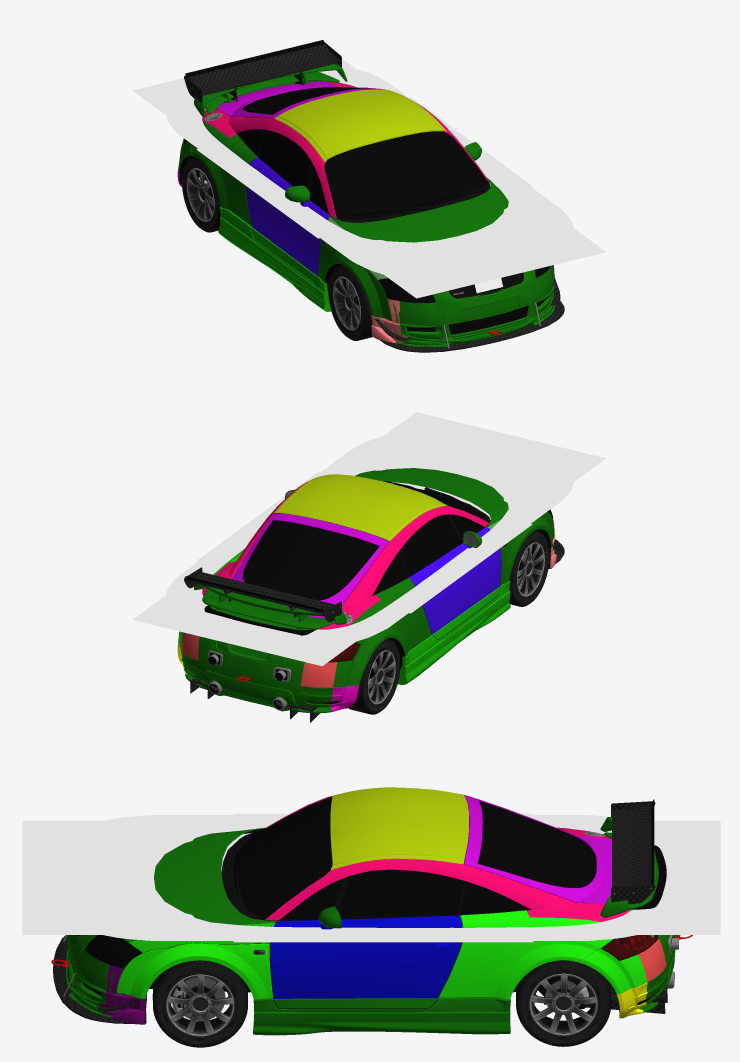
The model's file is audi_tt.fbx.
3 renders of one model, top to bottom at view 1: azimuth 30°, elevation 25°; view 2: azimuth 150°, elevation 25°; view 3: azimuth 270°, elevation 25°, orthographic. The views are drawn at different scales.
Parts seen in each view (by area): view 1: neon (×4), aud_tt_04_body_body_, aud_tt_04_glassF_window_, shadow, aud_tt_04_hooda_body_, aud_tt_04_bumperFb_body_, aud_tt_04_wingrace_carbon_fiber_, aud_tt_04_wheel_tire_ (×2), aud_tt_04_bumperFd_body_, aud_tt_04_skirtRc_body_, aud_tt_04_wheel_rim_ (×2), aud_tt_04_glassRM_window_ (+14 smaller); view 2: neon (×4), aud_tt_04_body_body_, shadow, aud_tt_04_glassR_window_, aud_tt_04_hooda_body_, aud_tt_04_bumperRc_body_, aud_tt_04_wheel_tire_ (×2), aud_tt_04_trunk_body_, aud_tt_04_bumperRd_body_, aud_tt_04_skirtRc_body_, aud_tt_04_wingrace_carbon_fiber_, aud_tt_04_bumperRb_body_ (+8 smaller); view 3: aud_tt_04_body_body_, neon (×4), shadow, aud_tt_04_wheel_tire_ (×2), aud_tt_04_glassF_window_, aud_tt_04_hooda_body_, aud_tt_04_skirtLc_body_, aud_tt_04_glassR_window_, aud_tt_04_glassLM_window_, aud_tt_04_wheel_rim_ (×2), aud_tt_04_wingrace_carbon_fiber_, aud_tt_04_skirtLb_body_ (+20 smaller).
Boxes of the visible parts, bbox=[...] form: neon (×4): bbox=[132, 59, 605, 298]; aud_tt_04_body_body_: bbox=[178, 81, 488, 321]; aud_tt_04_glassF_window_: bbox=[327, 133, 484, 216]; shadow: bbox=[166, 67, 573, 278]; aud_tt_04_hooda_body_: bbox=[328, 178, 508, 279]; aud_tt_04_bumperFb_body_: bbox=[371, 269, 554, 343]; aud_tt_04_wingrace_carbon_fiber_: bbox=[184, 42, 341, 102]; aud_tt_04_wheel_tire_ (×2): bbox=[182, 156, 372, 340]; aud_tt_04_bumperFd_body_: bbox=[371, 265, 554, 346]; aud_tt_04_skirtRc_body_: bbox=[218, 206, 331, 311]; aud_tt_04_wheel_rim_ (×2): bbox=[186, 168, 360, 330]; aud_tt_04_glassRM_window_: bbox=[260, 132, 309, 187]; neon (×4): bbox=[132, 412, 605, 666]; aud_tt_04_body_body_: bbox=[178, 474, 554, 687]; shadow: bbox=[166, 431, 573, 646]; aud_tt_04_glassR_window_: bbox=[248, 524, 367, 596]; aud_tt_04_hooda_body_: bbox=[355, 468, 508, 529]; aud_tt_04_bumperRc_body_: bbox=[177, 636, 359, 707]; aud_tt_04_wheel_tire_ (×2): bbox=[348, 530, 549, 714]; aud_tt_04_trunk_body_: bbox=[231, 513, 389, 629]; aud_tt_04_bumperRd_body_: bbox=[179, 640, 358, 713]; aud_tt_04_skirtRc_body_: bbox=[397, 581, 510, 684]; aud_tt_04_wingrace_carbon_fiber_: bbox=[184, 567, 341, 622]; aud_tt_04_bumperRb_body_: bbox=[179, 636, 345, 701]; aud_tt_04_body_body_: bbox=[116, 787, 666, 999]; neon (×4): bbox=[22, 813, 720, 942]; shadow: bbox=[53, 815, 686, 940]; aud_tt_04_wheel_tire_ (×2): bbox=[152, 960, 611, 1047]; aud_tt_04_glassF_window_: bbox=[237, 799, 328, 915]; aud_tt_04_hooda_body_: bbox=[123, 827, 277, 953]; aud_tt_04_skirtLc_body_: bbox=[253, 998, 510, 1035]; aud_tt_04_glassR_window_: bbox=[484, 805, 590, 883]; aud_tt_04_glassLM_window_: bbox=[338, 873, 463, 918]; aud_tt_04_wheel_rim_ (×2): bbox=[166, 974, 597, 1035]; aud_tt_04_wingrace_carbon_fiber_: bbox=[611, 801, 655, 904]; aud_tt_04_skirtLb_body_: bbox=[254, 998, 510, 1020].
Bounding box in the file's own units: 4 × 1.32 × 4.75.
